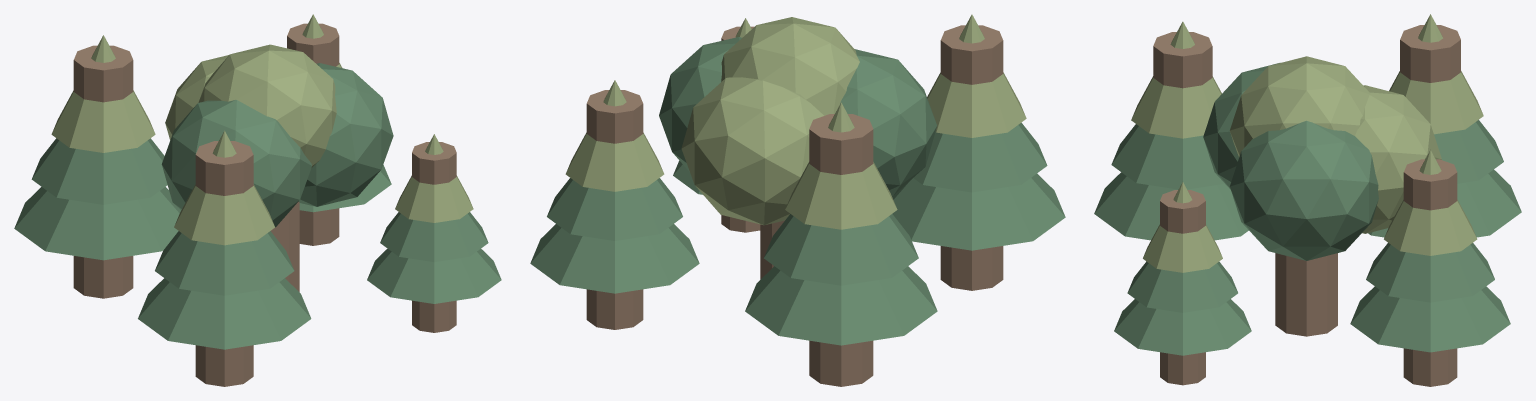
File: bosque.glb
The picture shows the model from 3 angles, left to right: view 1: azimuth 30°, elevation 25°; view 2: azimuth 150°, elevation 25°; view 3: azimuth 270°, elevation 25°; orthographic projection. The views are drawn at different scales.
Parts seen in each view (by area): view 1: world; view 2: world; view 3: world.
Boxes of the visible parts, x1,y1,x2,y2 form: world: (14,14,501,386); world: (530,14,1065,386); world: (1094,14,1521,386).
Size of the model in its own units: 6.72 by 4.63 by 6.91.
